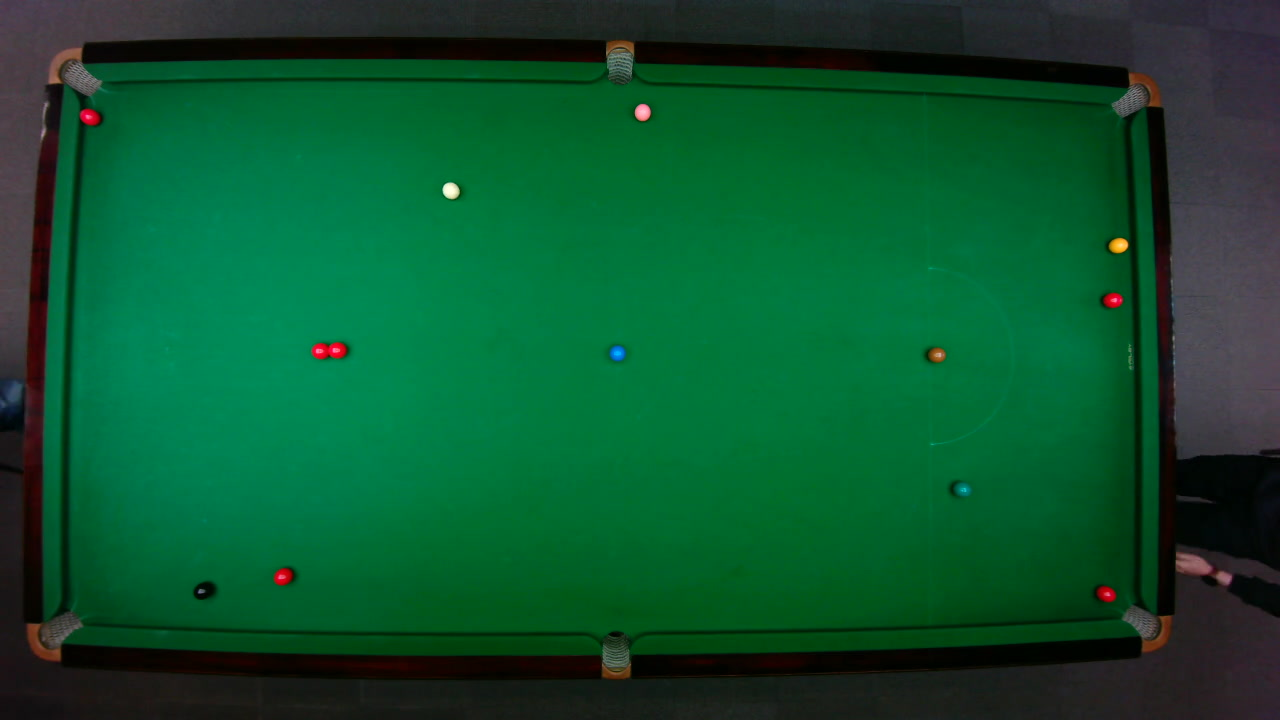bag: (25, 609, 83, 661), (45, 46, 102, 96), (1119, 603, 1172, 652), (1109, 71, 1161, 117), (601, 629, 629, 680), (605, 38, 633, 85)
black: (192, 580, 213, 600)
blue: (607, 343, 626, 361)
brown: (926, 346, 945, 362)
green: (951, 480, 972, 497)
pink: (632, 102, 651, 121)
red: (77, 106, 101, 126), (324, 340, 347, 359), (271, 566, 294, 585), (1094, 584, 1116, 602), (1101, 291, 1123, 308), (310, 341, 330, 359)
white: (440, 180, 461, 199)
yellow: (1107, 236, 1129, 253)
zone: (927, 265, 1014, 445)
